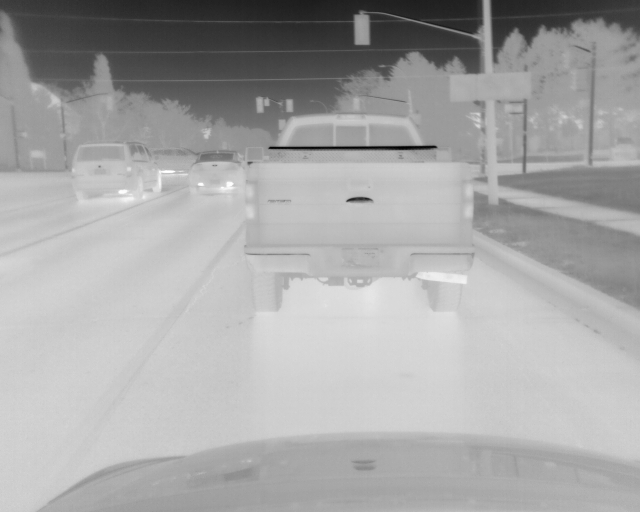car: (243, 109, 475, 314), (70, 140, 161, 202), (187, 149, 249, 195), (154, 144, 196, 177)
